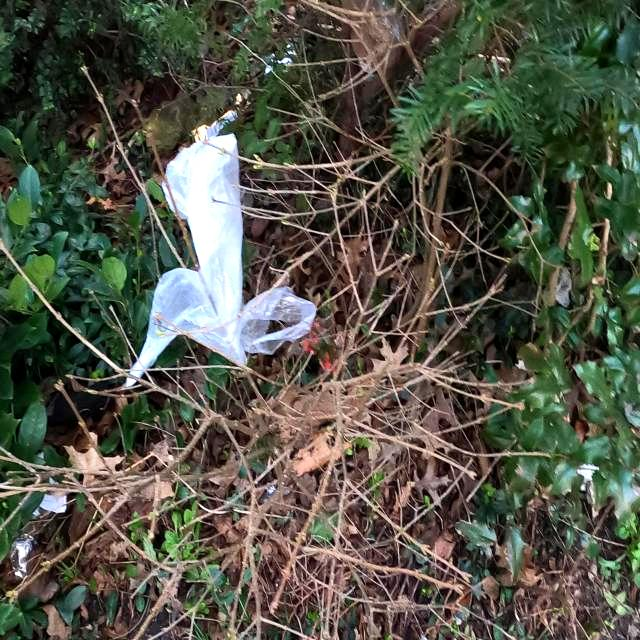Plastic: (191, 92, 251, 146)
